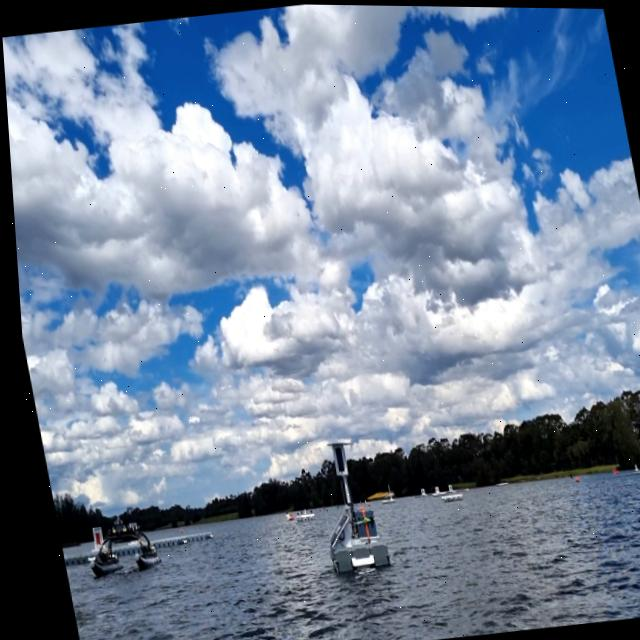led: (326, 443, 340, 472)
